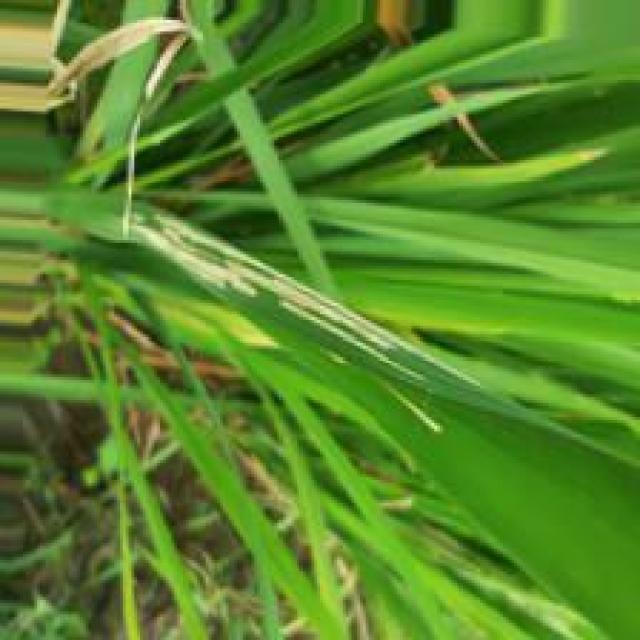Rice_Hispa: (119, 210, 438, 393)
